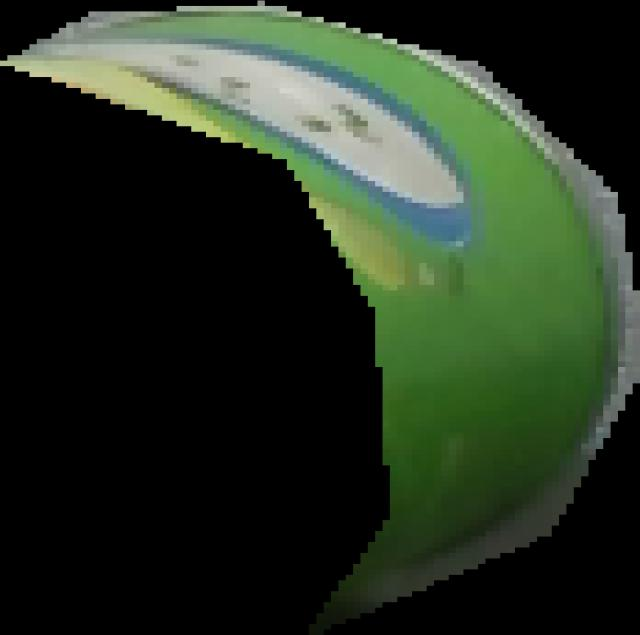bottom: (0, 0, 640, 635)
